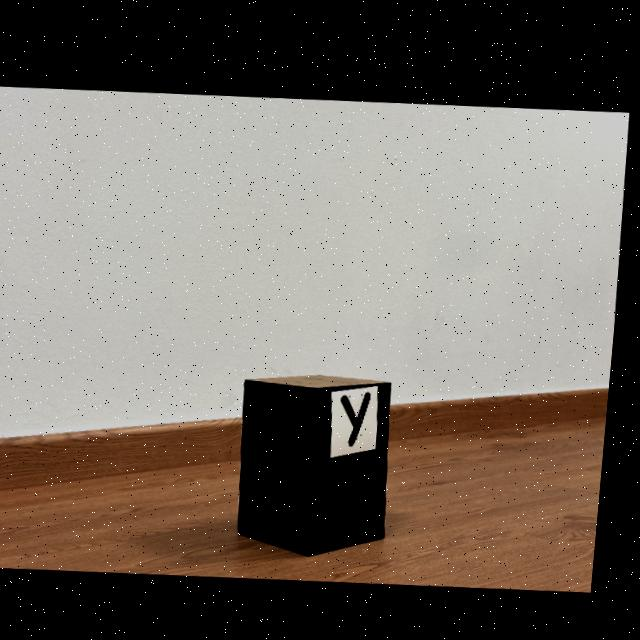Y: (348, 387, 377, 440)
